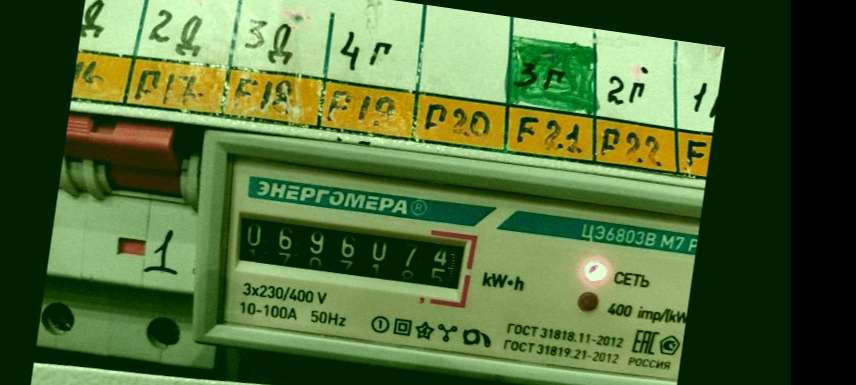0: (243, 219, 265, 246), (369, 233, 389, 262)
4: (431, 241, 450, 265)
5: (428, 264, 447, 286)
6: (337, 229, 359, 258), (275, 222, 296, 249)
7: (400, 239, 420, 267)
9: (306, 226, 326, 254)
screen: (220, 196, 482, 311)
